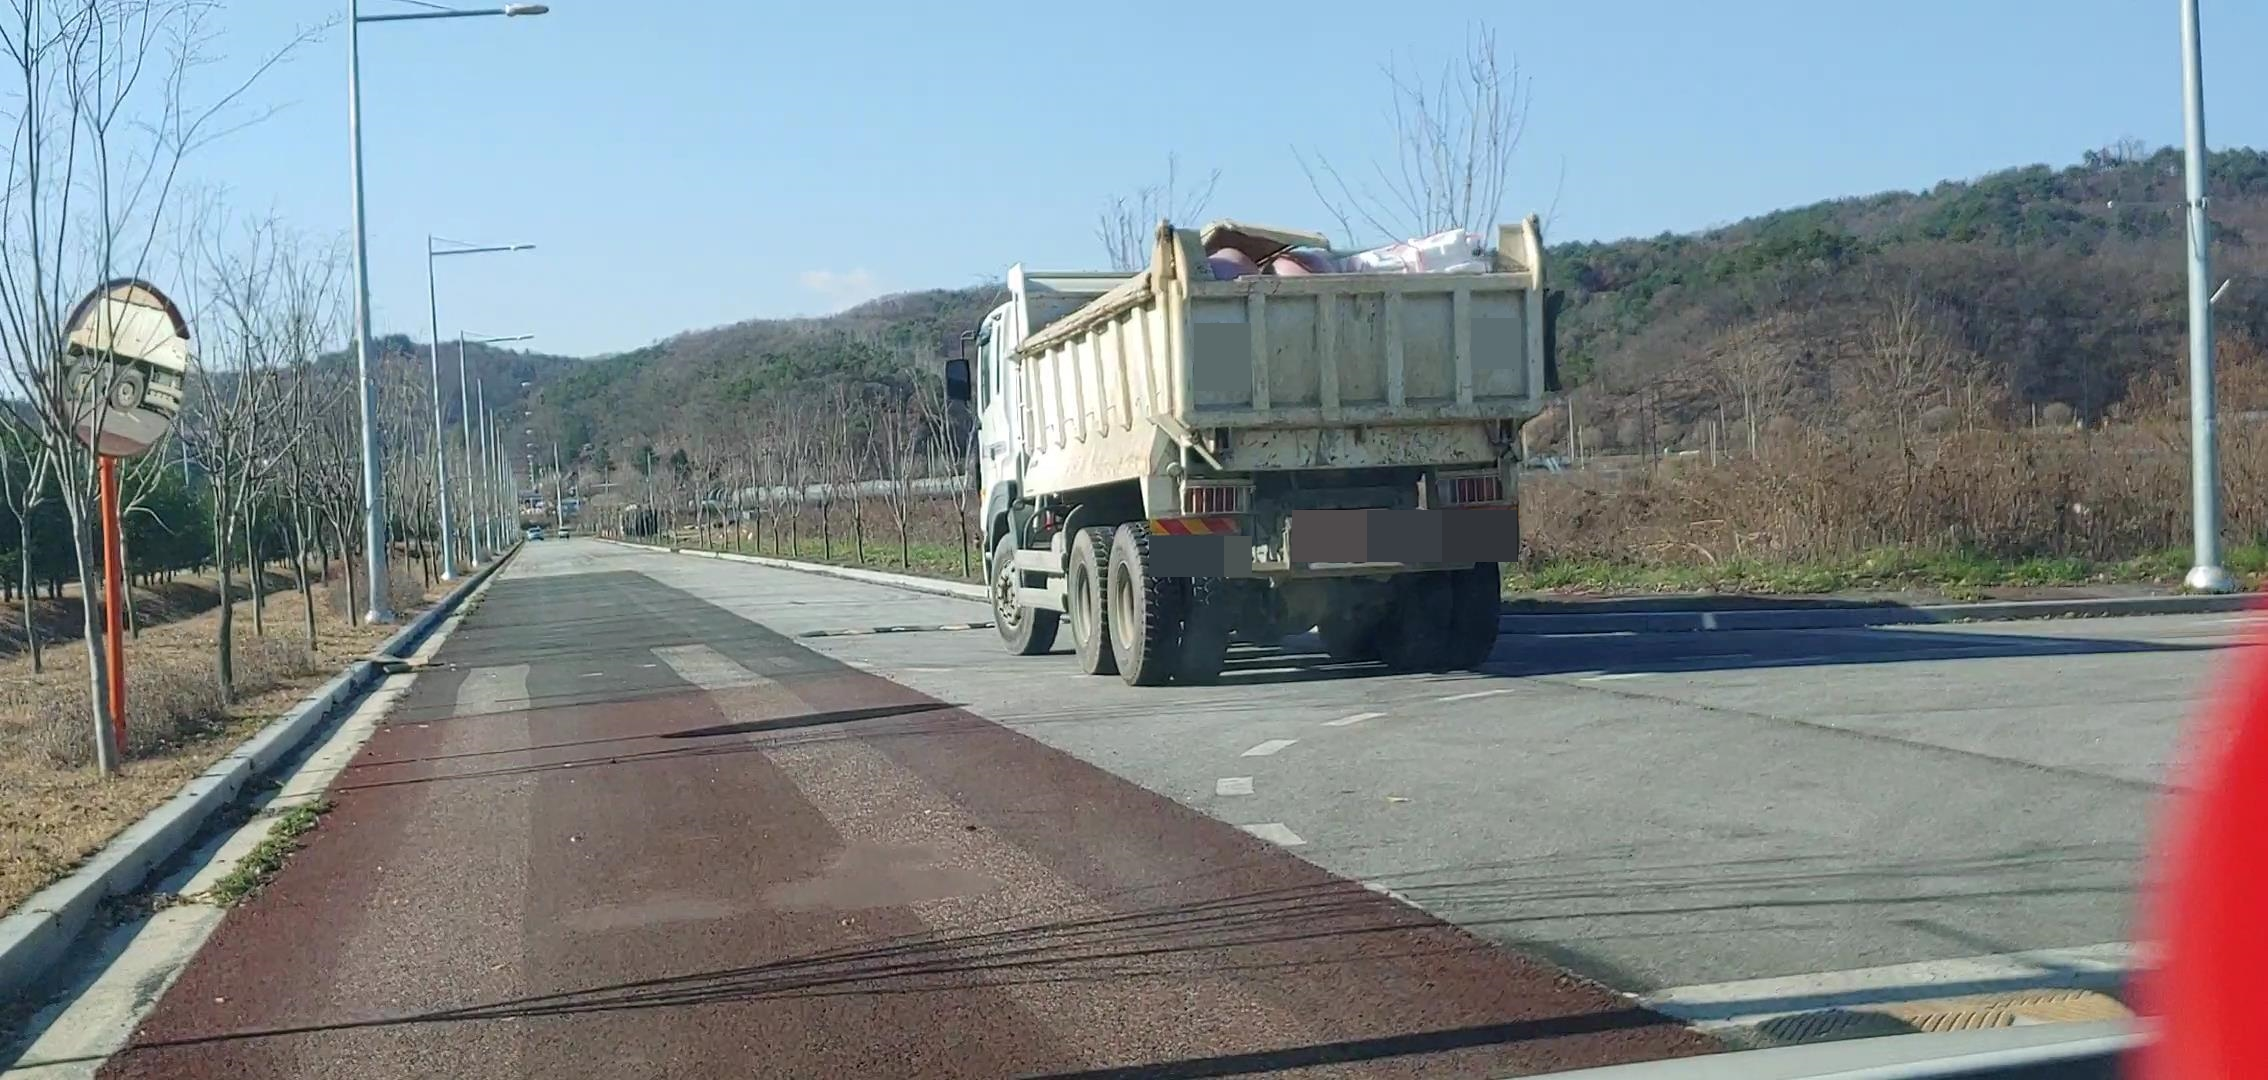불법차량: (944, 212, 1567, 689)
